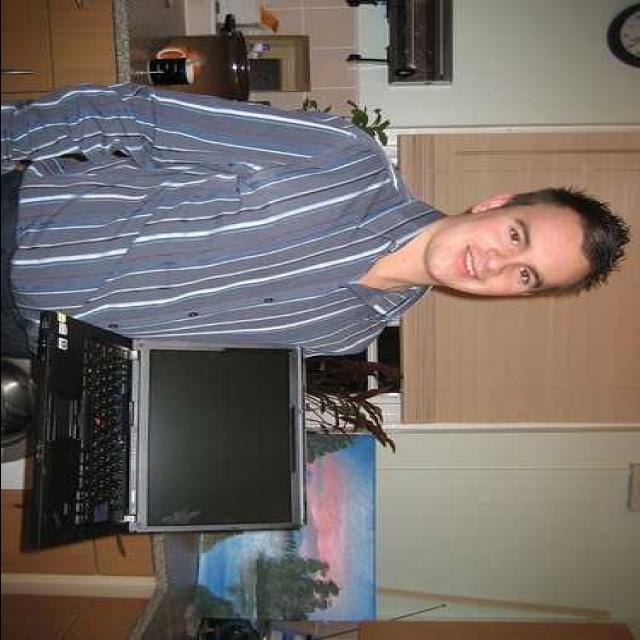laptop: (20, 315, 298, 542)
